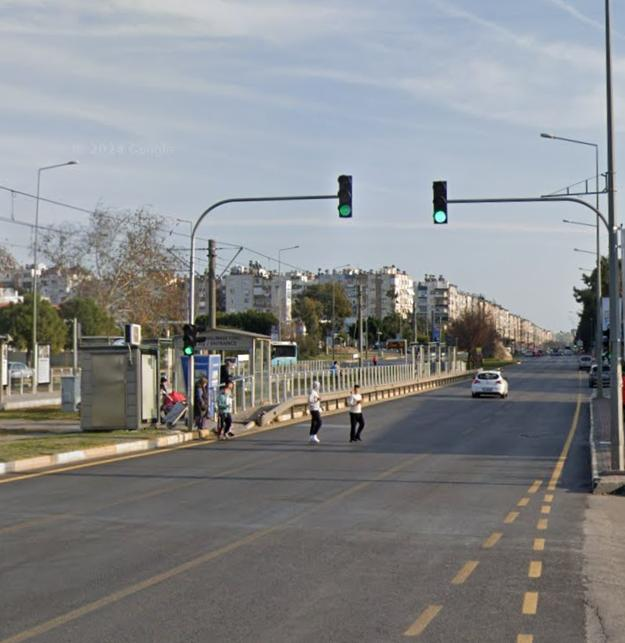greenlight: (433, 180, 448, 226), (337, 177, 353, 218), (184, 325, 194, 357), (572, 339, 578, 349)
